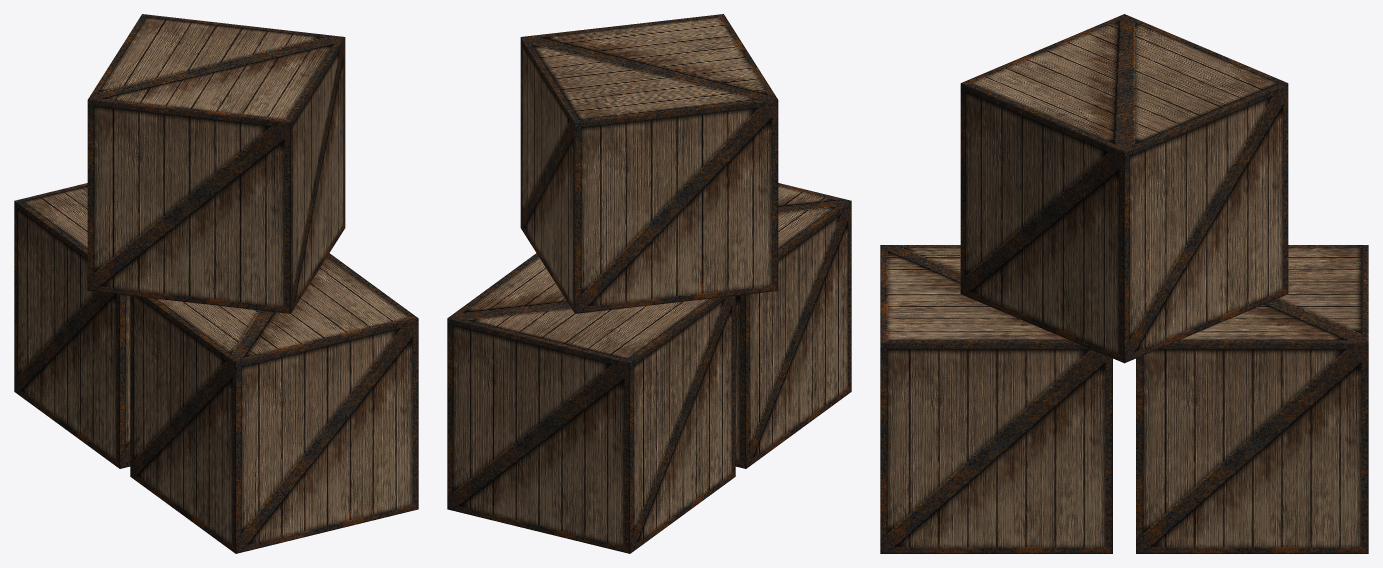
File: Boxes.obj
3 views of the same model, side by side, from view 1: azimuth 30°, elevation 25°; view 2: azimuth 150°, elevation 25°; view 3: azimuth 270°, elevation 25° (orthographic). The views are drawn at different scales.
Parts seen in each view (by area): view 1: Caixa003, Caixa002, Caixa001; view 2: Caixa003, Caixa001, Caixa002; view 3: Caixa003, Caixa001, Caixa002.
Part boxes in pixels (x1,y1,x2,y2): Caixa003: (87, 14, 345, 313); Caixa002: (130, 253, 418, 553); Caixa001: (14, 183, 130, 468); Caixa003: (520, 14, 778, 313); Caixa001: (447, 253, 735, 553); Caixa002: (735, 183, 851, 468); Caixa003: (960, 14, 1288, 363); Caixa001: (1136, 245, 1368, 553); Caixa002: (880, 245, 1112, 553).
Size of the model in its own units: 2.82 by 4 by 4.2.
1 material, 1 textured.
